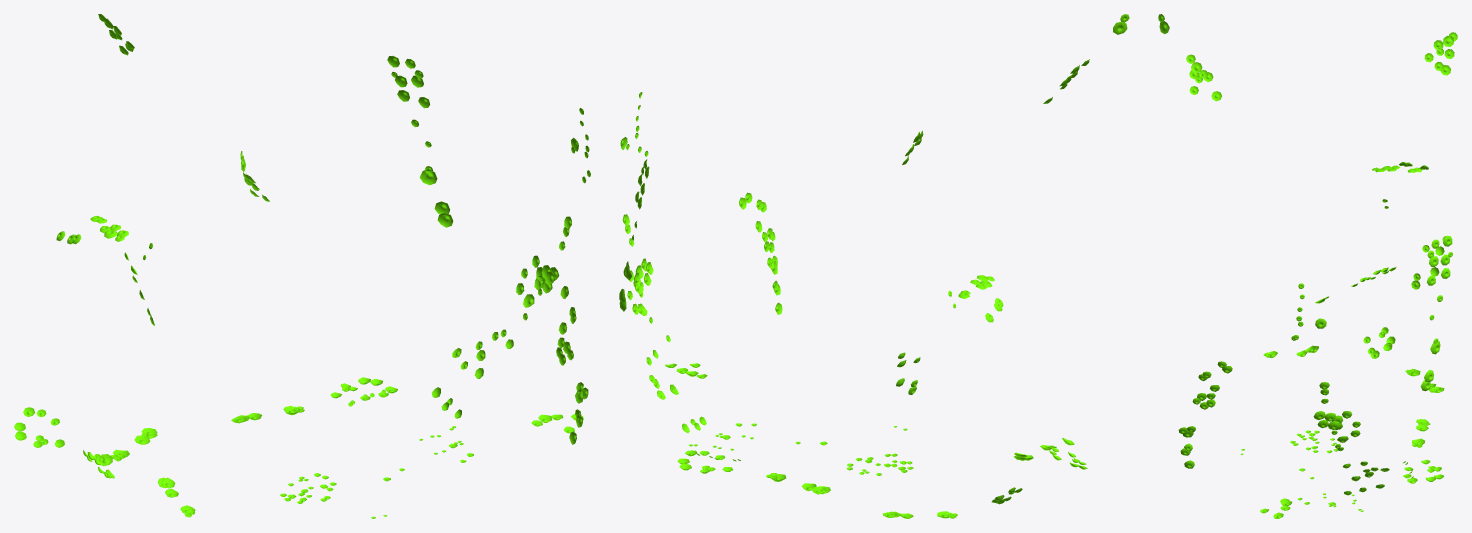
File: Misterius_12_Fix.fbx
The picture shows the model from 3 angles, left to right: view 1: azimuth 30°, elevation 25°; view 2: azimuth 150°, elevation 25°; view 3: azimuth 270°, elevation 25°; orthographic projection. The views are drawn at different scales.
Bounding box in the file's own units: 182 × 149 × 110.
